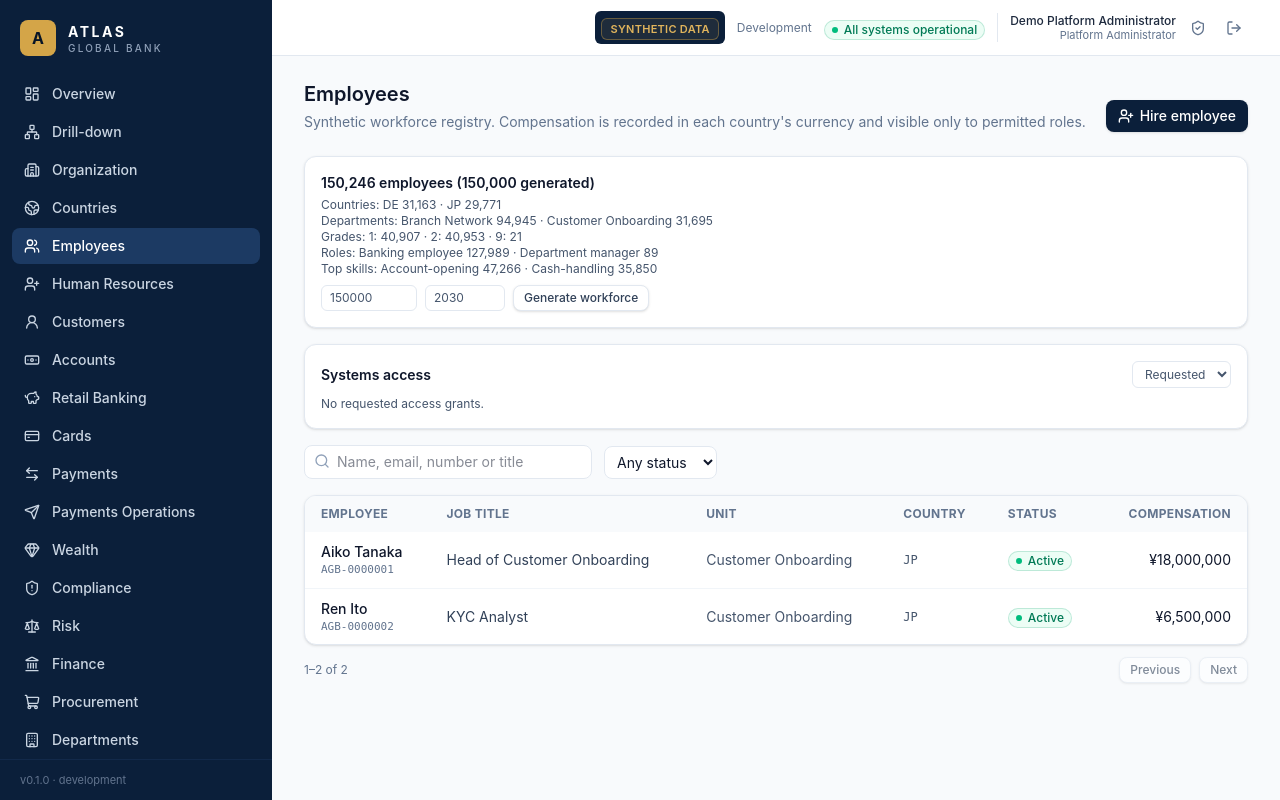
Test: Employees page › shows the workforce in numbers and generates it for those who manage staff
Expected: the text "150,246 employees (150,000 generated)" is shown, [321,174,595,191]
Expected: the text labelled "Grades" reads "Grades: 1: 40,907 · 2: 40,953 · 9: 21", [321,229,522,244]
Click the button "Generate workforce".
click(581, 298)  # box [513,285,649,311]
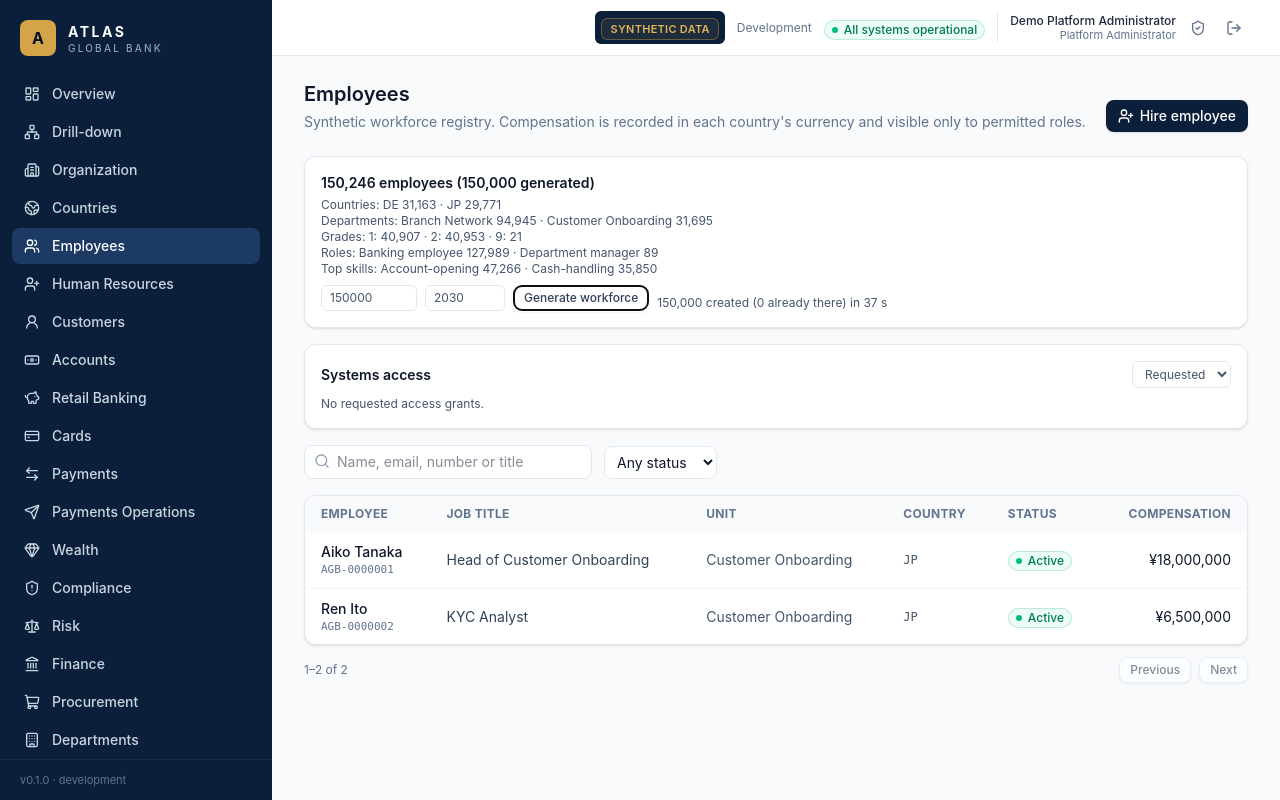
Expected: the message reads "150,000 created (0 already there) in 37 s", [657,295,887,311]
